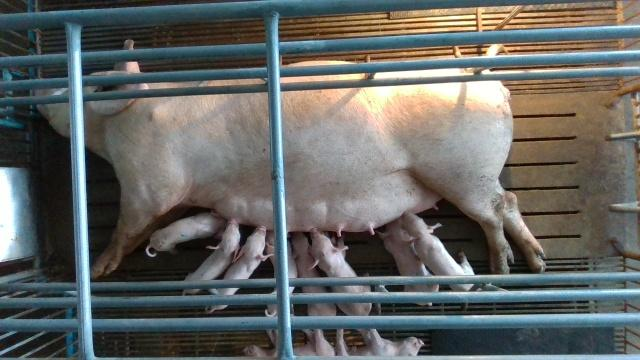piglet: (400, 212, 476, 294), (204, 226, 270, 313), (308, 228, 373, 315), (377, 218, 439, 306), (179, 218, 241, 296), (289, 232, 338, 317), (146, 211, 227, 256), (264, 229, 297, 317), (244, 327, 335, 358), (336, 328, 424, 357)
sow-sleep-lactate: (34, 40, 547, 278)
